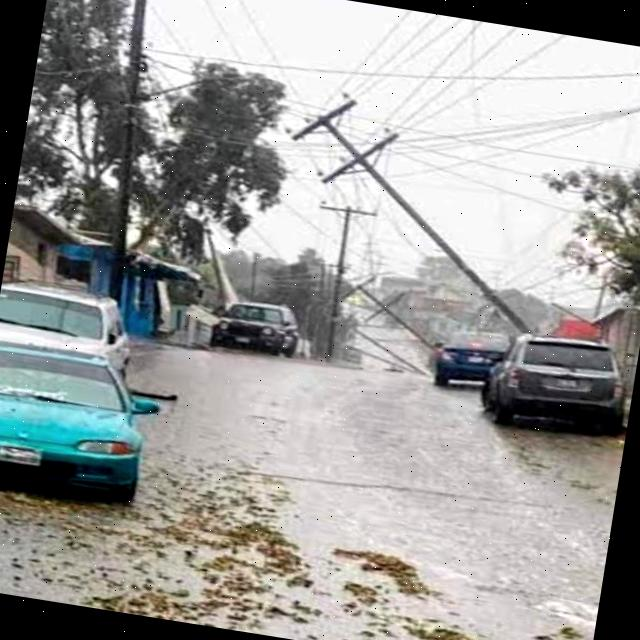Broken Pole: (273, 86, 538, 333), (312, 198, 381, 358), (339, 274, 435, 349)
